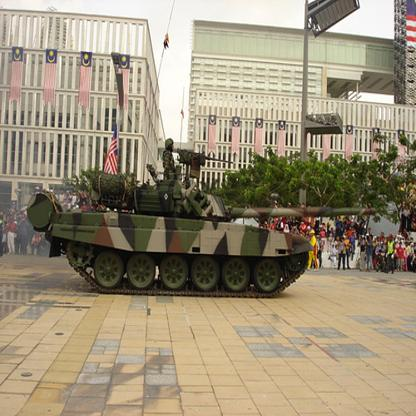Tank: (25, 135, 325, 323)
